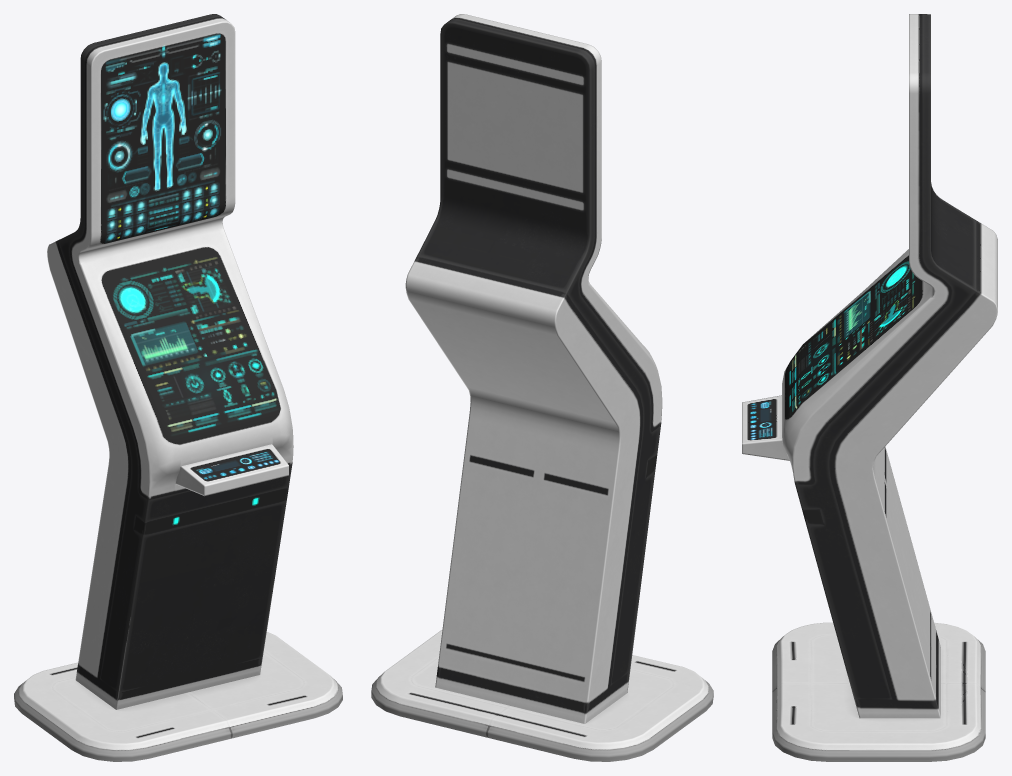
File: LabTerminal01.FBX
3 renders of one model, left to right at view 1: azimuth 30°, elevation 25°; view 2: azimuth 150°, elevation 25°; view 3: azimuth 270°, elevation 25°, orthographic. The views are drawn at different scales.
Visible parts, largest first — view 1: LabTerminal01; view 2: LabTerminal01; view 3: LabTerminal01.
Boxes of the visible parts, box(x1,y1,x2,y2) form: LabTerminal01: box(14, 14, 342, 761); LabTerminal01: box(371, 14, 713, 761); LabTerminal01: box(742, 14, 997, 761).
Size of what is drawn, in the model's own units: 0.8769 by 2.07 by 0.7355.
